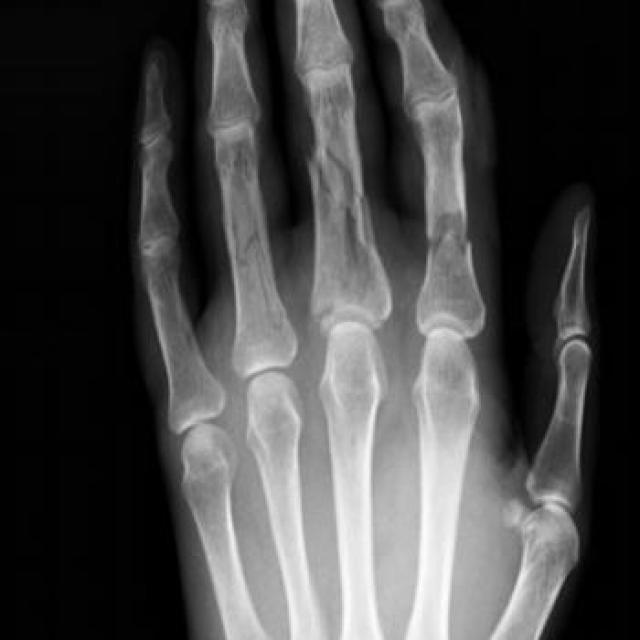Fracture: (299, 144, 389, 269), (417, 195, 503, 257), (224, 213, 281, 270)
